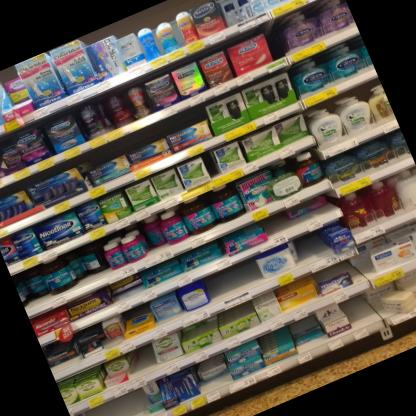empty_space: (207, 255, 265, 299), (339, 290, 382, 332), (79, 390, 146, 416), (292, 228, 328, 264), (264, 208, 299, 239), (347, 254, 375, 286), (300, 200, 337, 223), (135, 345, 159, 369), (202, 371, 231, 389)
